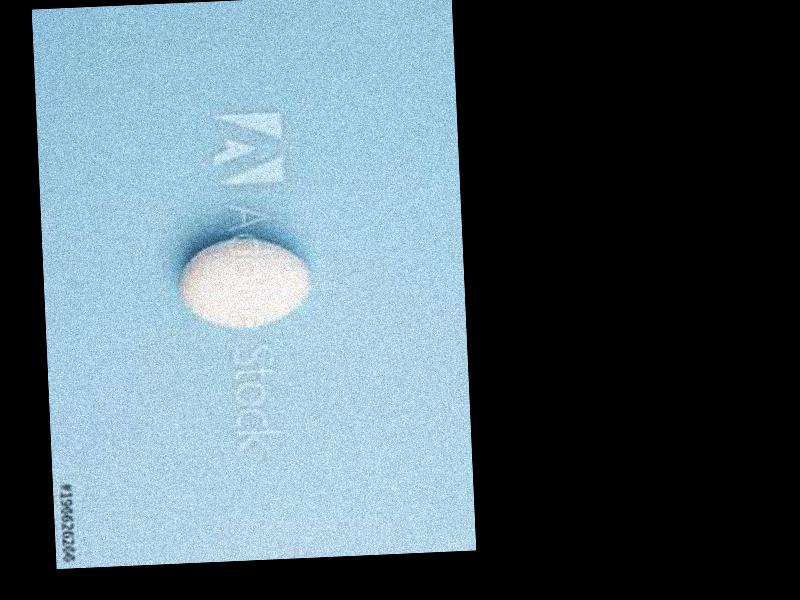Eggs: (179, 236, 309, 329)
